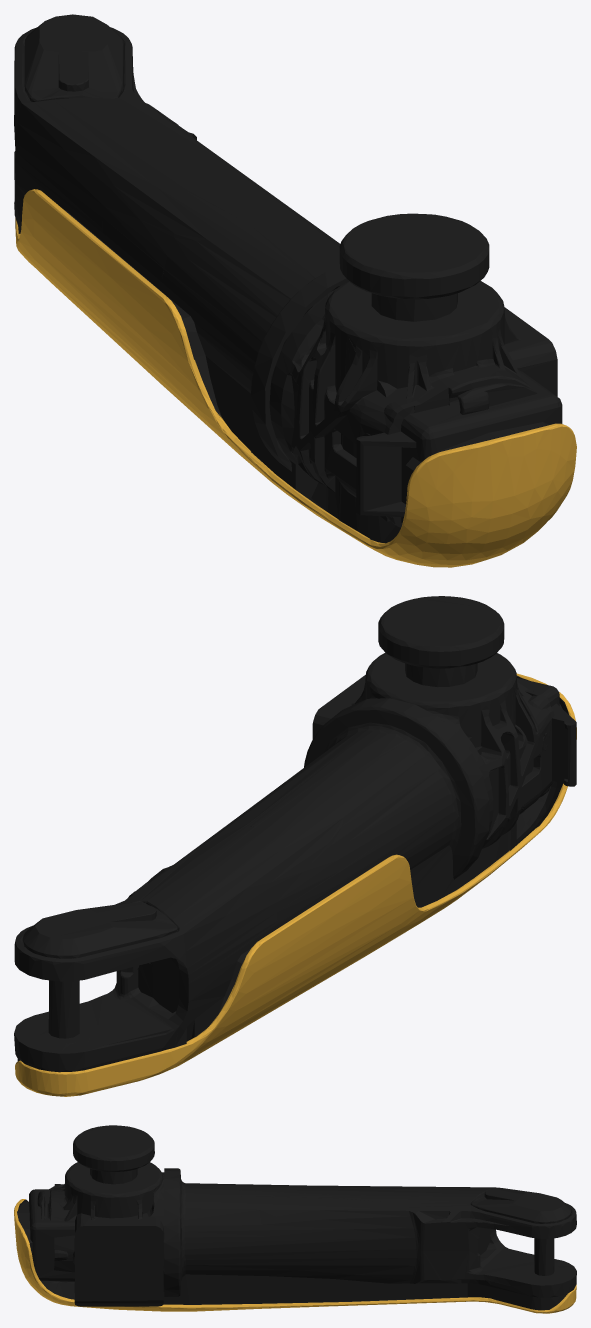
The model's file is front_right_upper_leg.obj.
3 views of the same model, one above another, from view 1: azimuth 30°, elevation 25°; view 2: azimuth 150°, elevation 25°; view 3: azimuth 270°, elevation 25° (orthographic). The views are drawn at different scales.
Parts seen in each view (by area): view 1: _2-042137-001-A00_TOP_LEVEL_DEFEATURED_-_NOT_FOR_PRODUCTION_003; view 2: _2-042137-001-A00_TOP_LEVEL_DEFEATURED_-_NOT_FOR_PRODUCTION_003; view 3: _2-042137-001-A00_TOP_LEVEL_DEFEATURED_-_NOT_FOR_PRODUCTION_003.
Part boxes in pixels (x1,y1,x2,y2): _2-042137-001-A00_TOP_LEVEL_DEFEATURED_-_NOT_FOR_PRODUCTION_003: (14,14,576,567); _2-042137-001-A00_TOP_LEVEL_DEFEATURED_-_NOT_FOR_PRODUCTION_003: (14,596,576,1096); _2-042137-001-A00_TOP_LEVEL_DEFEATURED_-_NOT_FOR_PRODUCTION_003: (14,1125,576,1313).
Size of the model in its own units: 0.1011 by 0.1323 by 0.4184.
